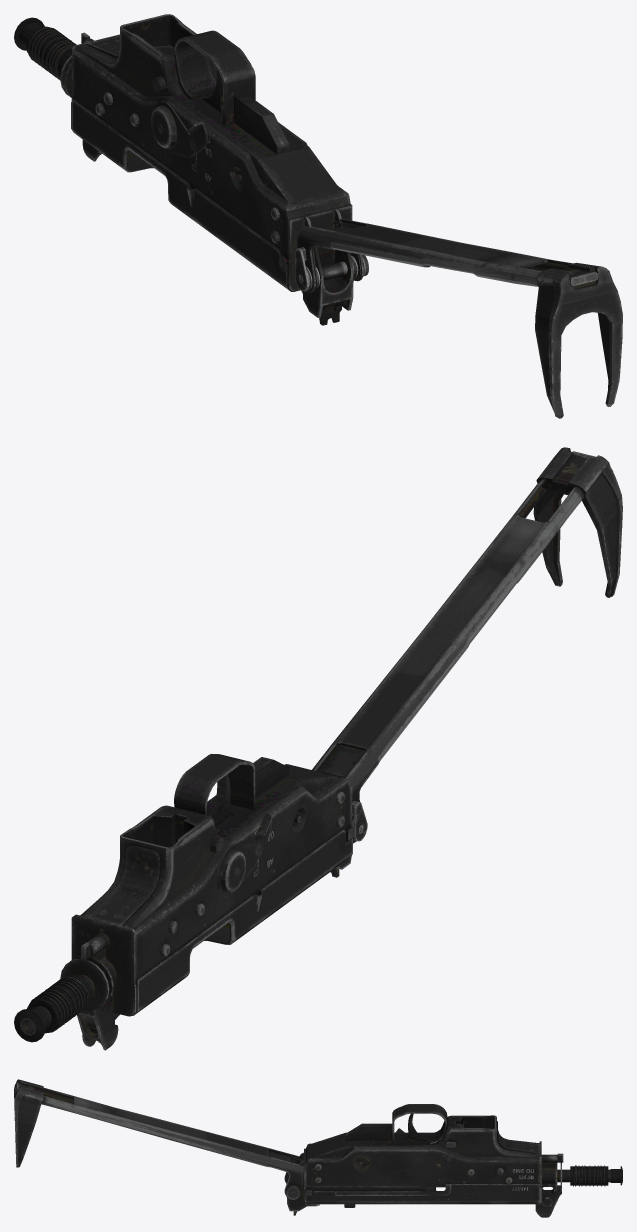
3 views of the same model, one above another, from view 1: azimuth 30°, elevation 25°; view 2: azimuth 150°, elevation 25°; view 3: azimuth 270°, elevation 25° (orthographic). The views are drawn at different scales.
Visible parts, largest first — view 1: TW_57f3c6bd24597738e730fa2f_PZ_Import; view 2: TW_57f3c6bd24597738e730fa2f_PZ_Import; view 3: TW_57f3c6bd24597738e730fa2f_PZ_Import.
Boxes of the visible parts, bbox=[...] form: TW_57f3c6bd24597738e730fa2f_PZ_Import: bbox=[14, 14, 622, 418]; TW_57f3c6bd24597738e730fa2f_PZ_Import: bbox=[14, 447, 622, 1050]; TW_57f3c6bd24597738e730fa2f_PZ_Import: bbox=[14, 1079, 622, 1217].
Bounding box in the file's own units: 0.0239 × 0.3061 × 0.0731.
1 material, 1 textured.
